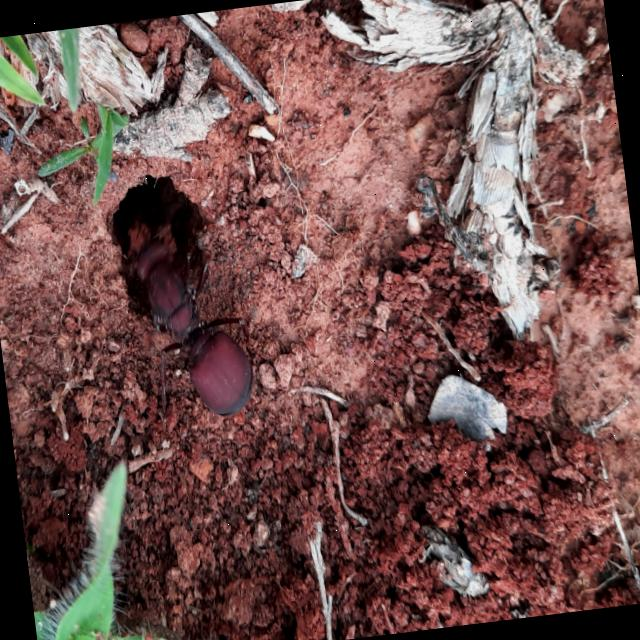Alive-Female-Dealate: (122, 207, 258, 426)
